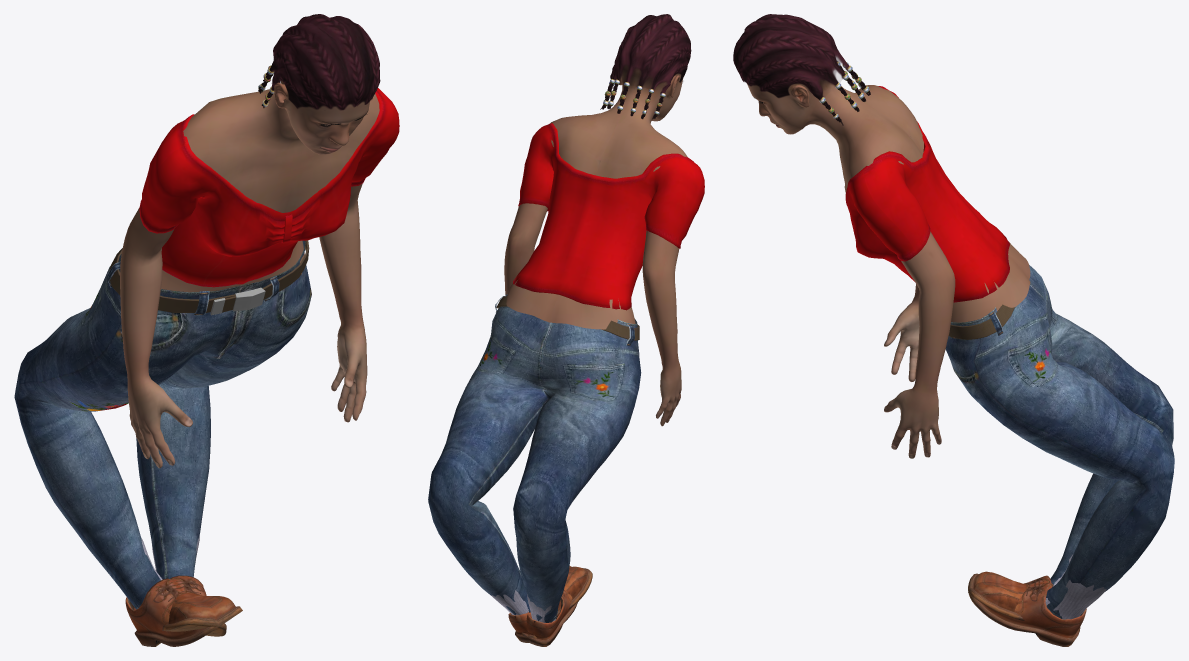
File: donna-02.glb
The picture shows the model from 3 angles, left to right: view 1: azimuth 30°, elevation 25°; view 2: azimuth 150°, elevation 25°; view 3: azimuth 270°, elevation 25°; orthographic projection. The views are drawn at different scales.
Parts seen in each view (by area): view 1: Human.mindfront_female_trousers_1, Human, Human.punkduck_retro_top, Human.elvs_braided_rows, Human.shoes01; view 2: Human.mindfront_female_trousers_1, Human.punkduck_retro_top, Human, Human.elvs_braided_rows, Human.shoes01; view 3: Human.mindfront_female_trousers_1, Human, Human.punkduck_retro_top, Human.elvs_braided_rows, Human.shoes01.
Boxes of the visible parts, x1,y1,x2,y2 form: Human.mindfront_female_trousers_1: [14, 240, 311, 609]; Human: [120, 80, 379, 468]; Human.punkduck_retro_top: [139, 88, 399, 287]; Human.elvs_braided_rows: [258, 14, 380, 110]; Human.shoes01: [125, 536, 242, 646]; Human.mindfront_female_trousers_1: [428, 294, 641, 622]; Human.punkduck_retro_top: [513, 123, 704, 310]; Human: [504, 64, 687, 426]; Human.elvs_braided_rows: [600, 14, 691, 119]; Human.shoes01: [490, 566, 592, 646]; Human.mindfront_female_trousers_1: [945, 265, 1174, 618]; Human: [747, 79, 1030, 458]; Human.punkduck_retro_top: [845, 86, 1009, 302]; Human.elvs_braided_rows: [733, 14, 870, 125]; Human.shoes01: [968, 554, 1106, 646].
Bounding box in the file's own units: 0.4596 × 1.37 × 0.8779.
13 materials, 13 textured.
